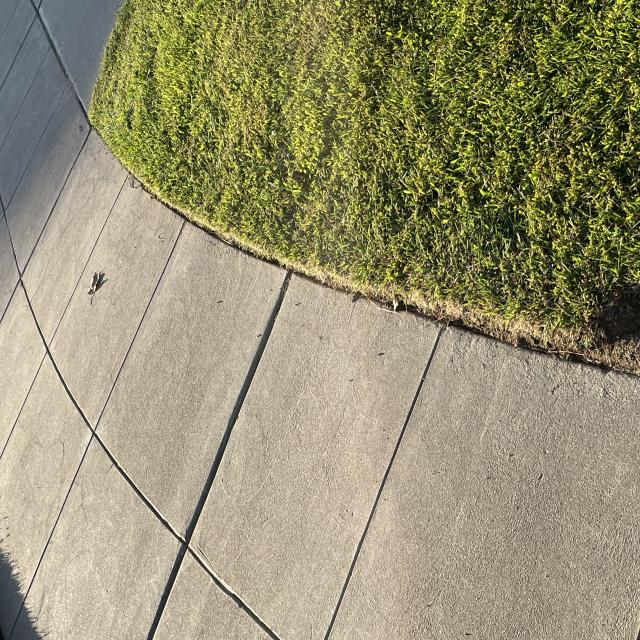walkway: (441, 336, 640, 636), (300, 285, 464, 640), (114, 454, 422, 640), (11, 253, 168, 491), (48, 368, 201, 578), (2, 131, 124, 353)
